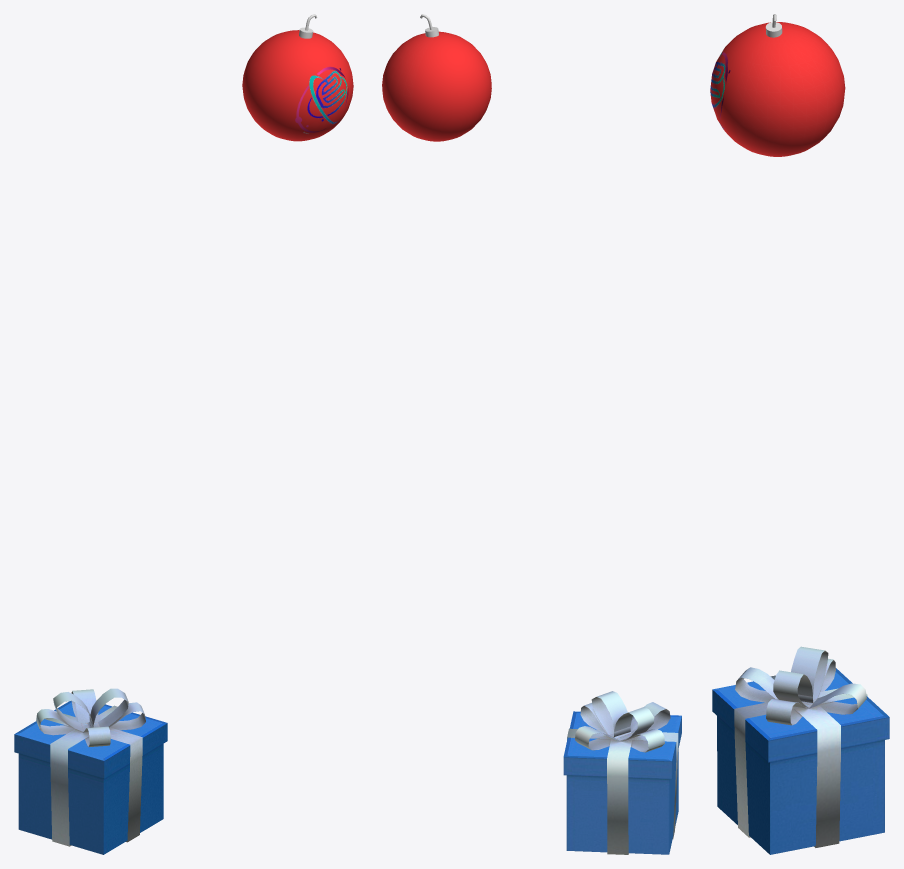
Rendered from arbol.fbx.
3 renders of one model, left to right at view 1: azimuth 30°, elevation 25°; view 2: azimuth 150°, elevation 25°; view 3: azimuth 270°, elevation 25°, orthographic. The views are drawn at different scales.
Visible parts, largest first — view 1: present_lod010, Cylinder; view 2: present_lod010, Cylinder; view 3: present_lod010, Cylinder.
Boxes of the visible parts, left/top/right/bottom form: present_lod010: left=14, top=688, right=167, bottom=854; Cylinder: left=242, top=14, right=353, bottom=141; present_lod010: left=563, top=691, right=681, bottom=854; Cylinder: left=382, top=14, right=491, bottom=141; present_lod010: left=712, top=646, right=889, bottom=854; Cylinder: left=710, top=14, right=845, bottom=156.
Size of what is drawn, in the model's own units: 135 by 321 by 56.03.
Materials: 3 (2 with a texture image).
